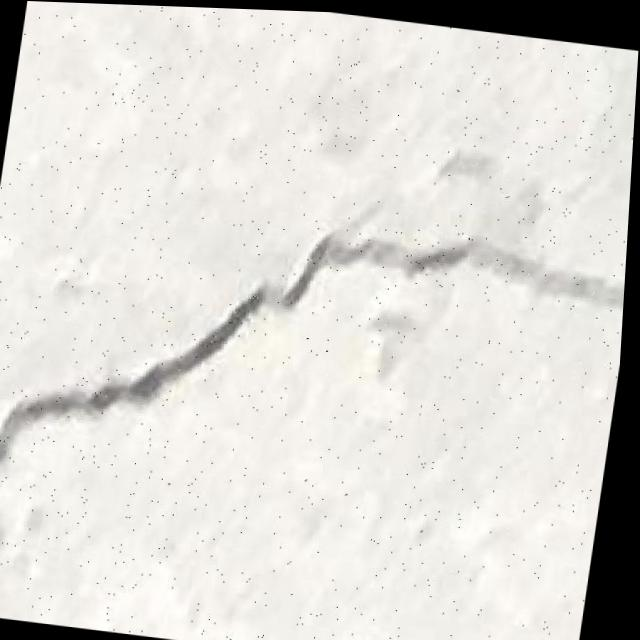Crack: (0, 171, 632, 591)
